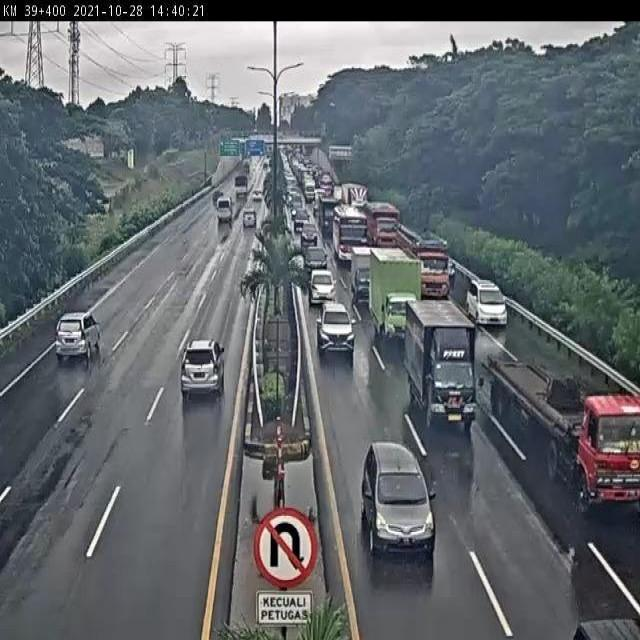bus-l-: (331, 206, 368, 262)
car: (362, 440, 435, 553), (180, 338, 224, 398), (316, 301, 355, 359), (466, 278, 509, 326), (55, 314, 101, 358), (308, 267, 337, 305), (302, 246, 328, 274)
truck-l-: (397, 223, 449, 296)
truck-m-: (404, 297, 477, 428), (369, 249, 420, 339)
truck-s-: (349, 244, 376, 303)
truck-xl-: (488, 361, 640, 515)
